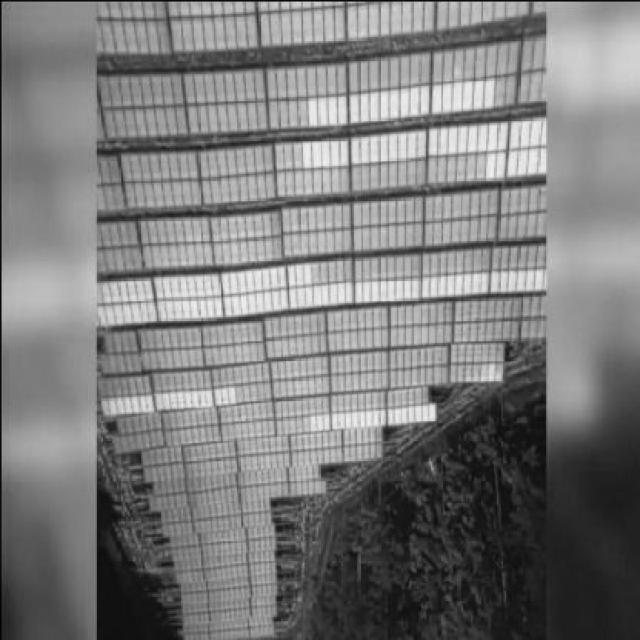diode: (482, 78, 493, 112), (418, 85, 428, 116), (472, 77, 481, 111), (374, 135, 386, 159), (522, 148, 533, 174), (496, 120, 506, 148), (452, 125, 462, 153), (378, 88, 387, 119), (326, 94, 336, 121), (528, 117, 538, 143), (506, 121, 516, 147), (502, 151, 512, 177), (472, 124, 482, 150), (533, 146, 542, 174), (481, 152, 490, 180), (350, 135, 359, 163), (404, 129, 414, 154), (491, 151, 500, 178), (483, 124, 492, 151), (337, 94, 346, 121), (512, 152, 522, 176), (358, 94, 368, 118), (528, 269, 538, 293), (358, 136, 368, 159), (463, 126, 472, 151), (414, 129, 423, 154), (387, 133, 396, 158), (320, 140, 329, 165), (462, 82, 471, 107), (388, 89, 397, 114), (452, 82, 460, 110), (396, 133, 406, 155), (372, 278, 382, 300), (538, 118, 547, 142), (517, 121, 526, 145), (433, 131, 442, 155), (301, 141, 310, 165), (432, 84, 440, 111), (213, 275, 225, 293), (143, 297, 152, 321), (474, 273, 483, 295), (274, 286, 283, 308), (257, 288, 266, 310), (218, 293, 227, 315), (409, 86, 416, 114), (339, 139, 347, 163), (443, 84, 451, 108), (369, 92, 377, 116), (350, 95, 358, 119), (424, 129, 431, 156), (312, 139, 319, 166), (351, 281, 360, 302), (119, 277, 128, 298), (122, 394, 133, 411), (308, 96, 315, 122), (329, 140, 337, 162), (317, 98, 325, 120), (503, 272, 511, 294), (382, 278, 390, 300), (293, 262, 301, 284), (233, 272, 241, 294), (398, 278, 407, 297), (224, 273, 233, 292), (108, 302, 117, 321), (227, 292, 235, 313), (478, 361, 487, 379), (160, 301, 169, 319), (164, 277, 173, 295), (147, 275, 156, 293), (123, 302, 132, 320), (103, 281, 112, 299), (444, 130, 451, 153), (369, 136, 376, 159), (268, 289, 275, 311), (263, 267, 272, 284), (234, 294, 243, 311), (100, 304, 109, 321), (137, 276, 146, 293), (130, 278, 138, 297), (209, 385, 217, 404), (401, 89, 407, 114), (357, 281, 365, 299), (339, 285, 347, 303), (204, 276, 213, 292), (176, 297, 184, 315), (116, 302, 124, 320), (226, 382, 234, 400), (108, 396, 117, 412), (494, 270, 500, 293), (406, 279, 414, 296), (115, 393, 123, 410), (458, 276, 465, 295), (112, 278, 119, 297), (326, 282, 332, 304), (302, 263, 308, 285), (194, 296, 200, 318), (186, 295, 192, 317), (156, 273, 162, 295), (96, 278, 102, 300), (486, 362, 494, 378), (249, 273, 257, 289), (250, 292, 258, 308), (140, 393, 148, 409), (538, 268, 544, 289), (522, 271, 528, 292), (486, 271, 492, 292), (417, 277, 423, 298), (389, 281, 396, 299), (209, 297, 216, 315), (191, 274, 197, 295), (385, 408, 393, 423), (243, 295, 251, 310), (418, 403, 424, 422), (513, 272, 519, 291), (443, 276, 449, 295), (242, 272, 248, 291), (153, 298, 159, 317), (133, 299, 139, 318), (181, 388, 187, 407), (166, 388, 172, 407), (158, 389, 164, 408), (424, 402, 431, 418), (317, 412, 325, 426), (189, 388, 196, 404), (148, 391, 155, 407), (468, 275, 474, 293), (434, 278, 440, 296), (366, 280, 372, 298), (333, 282, 339, 300), (301, 288, 307, 306), (293, 288, 299, 306), (286, 264, 292, 282), (274, 267, 280, 285), (201, 298, 207, 316), (174, 275, 180, 293), (218, 384, 224, 402), (175, 387, 180, 408), (131, 394, 138, 409), (379, 408, 386, 423), (396, 406, 402, 423), (390, 407, 396, 424), (424, 279, 430, 296), (286, 290, 292, 307), (353, 408, 359, 424), (310, 285, 316, 301), (258, 269, 264, 285), (204, 388, 210, 404), (197, 388, 203, 404), (198, 277, 204, 292), (183, 275, 189, 290), (170, 300, 176, 315), (94, 303, 98, 325), (541, 147, 544, 176), (346, 412, 352, 426), (332, 412, 338, 426), (101, 398, 107, 412), (319, 285, 324, 301), (451, 275, 455, 294), (367, 410, 373, 422), (340, 414, 346, 426), (311, 415, 317, 427), (360, 411, 365, 424), (375, 409, 379, 423), (411, 406, 415, 419), (404, 408, 408, 420), (306, 415, 309, 430)
hotspot: (492, 374, 498, 380)
